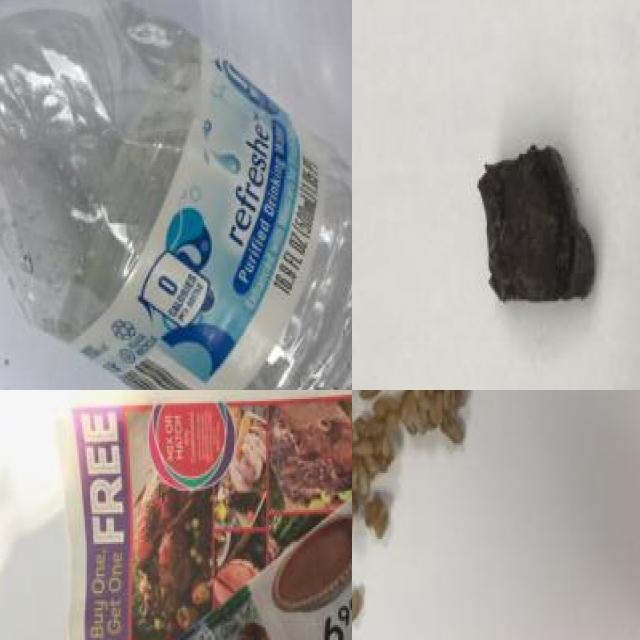compost: (468, 127, 604, 321), (352, 390, 494, 557)
paper: (53, 390, 352, 640)
plastic: (0, 0, 352, 390)
